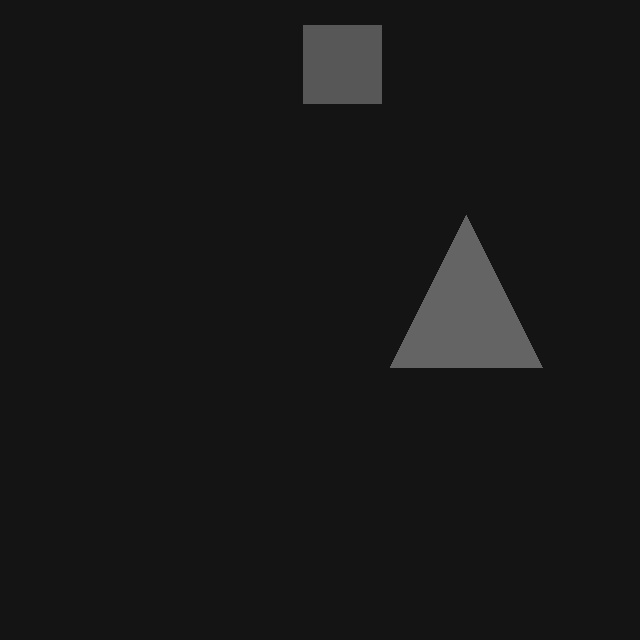square: (303, 25, 381, 103)
triangle: (390, 215, 542, 367)
